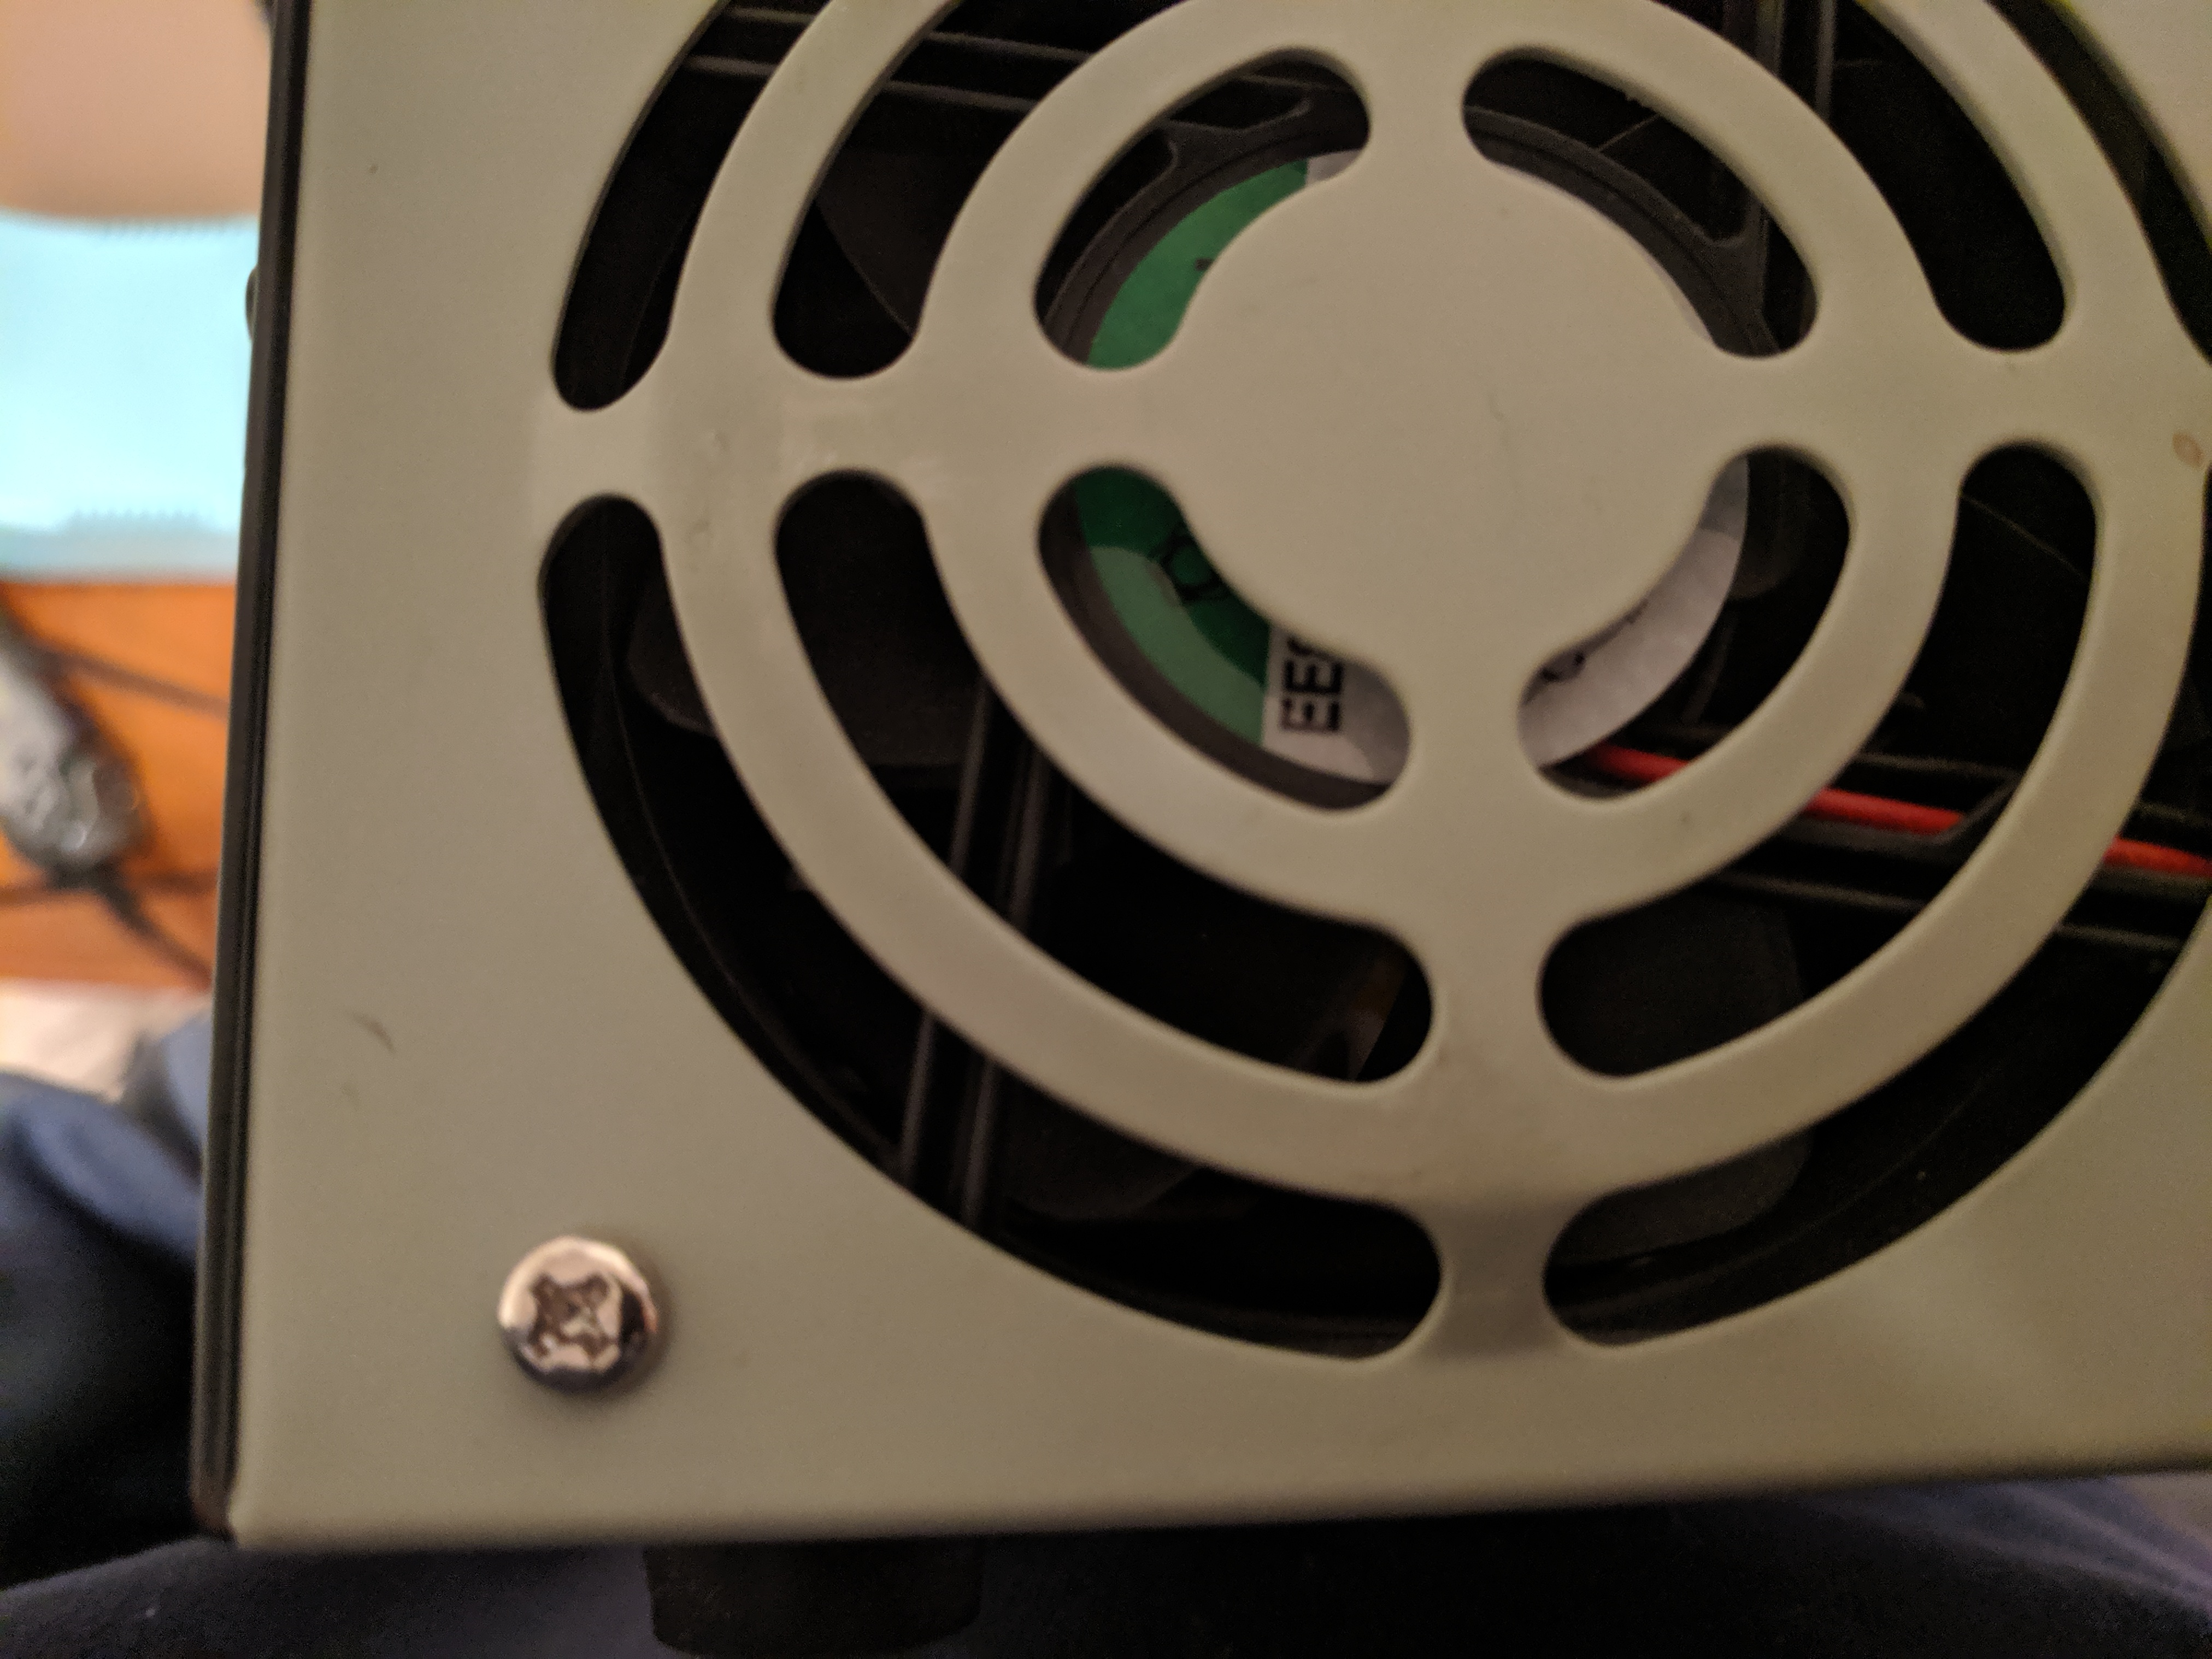cross_recessed_screw: (488, 1227, 655, 1396)
